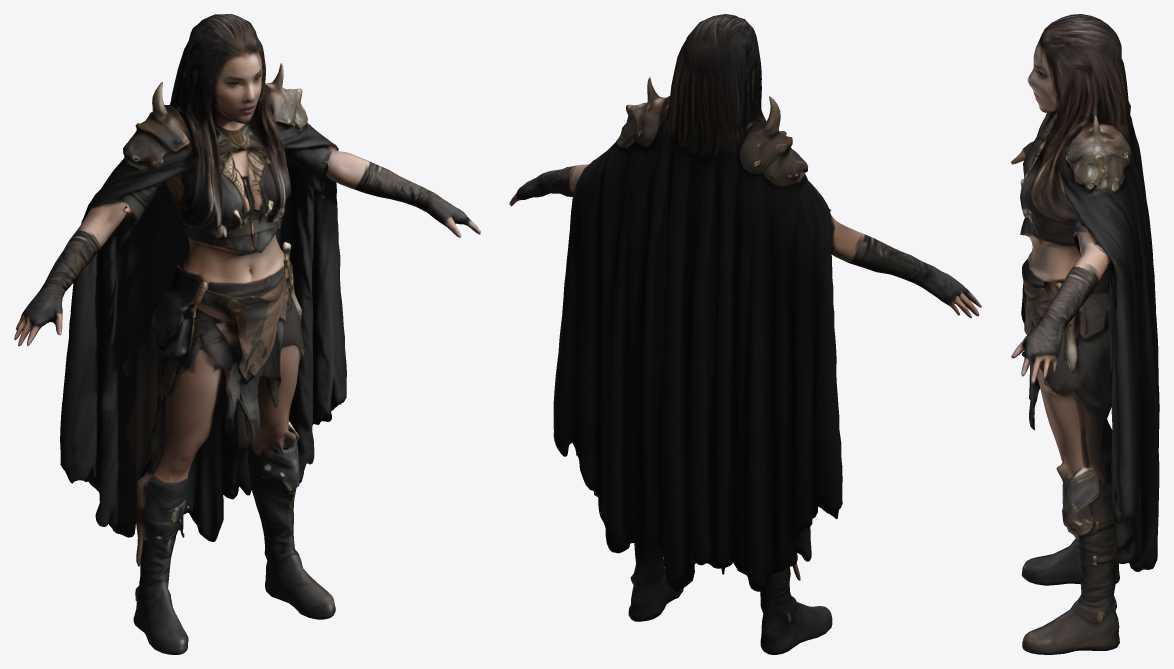
The model's file is base_basic_pbr.fbx.
3 views of the same model, side by side, from view 1: azimuth 30°, elevation 25°; view 2: azimuth 150°, elevation 25°; view 3: azimuth 270°, elevation 25° (orthographic).
Parts seen in each view (by area): view 1: model; view 2: model; view 3: model.
Boxes of the visible parts, x1,y1,x2,y2 form: model: [14, 14, 480, 654]; model: [509, 14, 981, 654]; model: [1010, 14, 1159, 654].
Size of the model in its own units: 153 by 189 by 42.96.
Materials: 1 (1 with a texture image).
